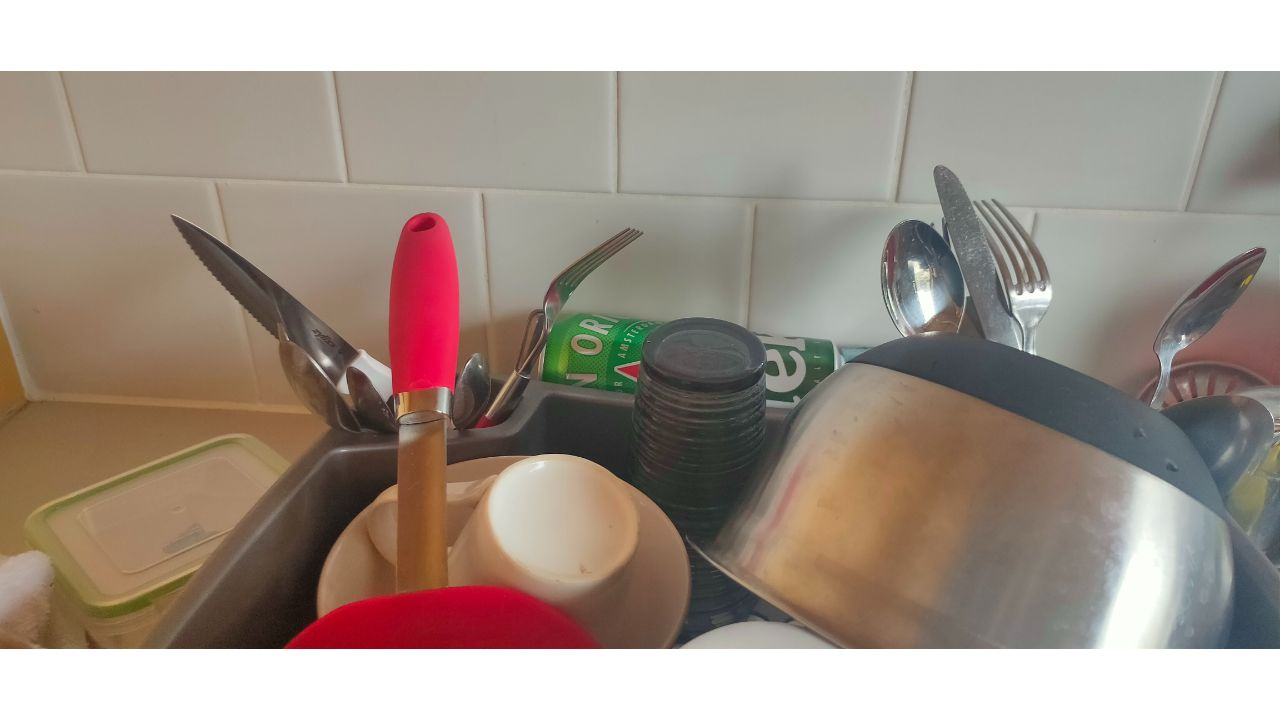Can: (537, 315, 848, 412)
